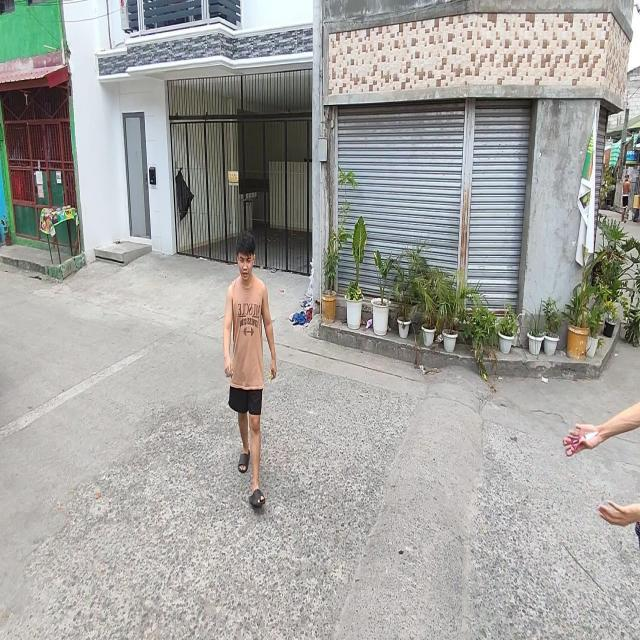scissor: (563, 431, 599, 457)
